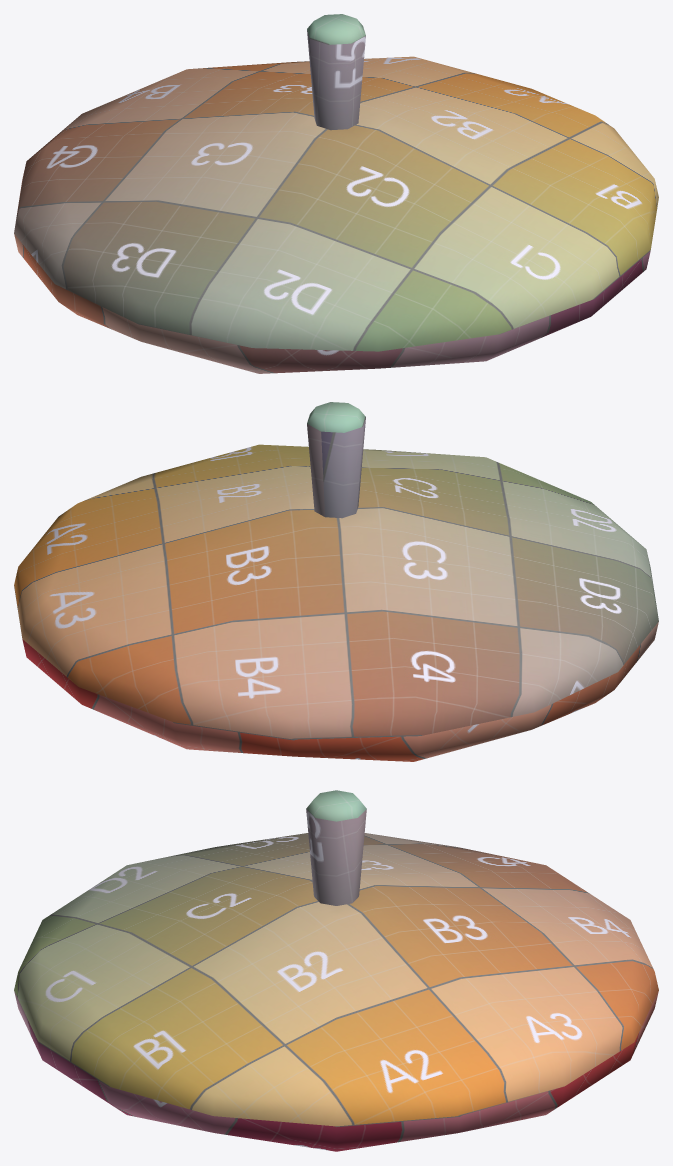
File: MediumUrnLid_SHAT.fbx
3 views of the same model, one above another, from view 1: azimuth 30°, elevation 25°; view 2: azimuth 150°, elevation 25°; view 3: azimuth 270°, elevation 25° (orthographic).
Visible parts, largest first — view 1: MediumUrnLid_SHAT.001; view 2: MediumUrnLid_SHAT.001; view 3: MediumUrnLid_SHAT.001.
Part boxes in pixels (left/top/right/bottom): MediumUrnLid_SHAT.001: left=14, top=14, right=658, bottom=373; MediumUrnLid_SHAT.001: left=14, top=402, right=658, bottom=761; MediumUrnLid_SHAT.001: left=14, top=790, right=658, bottom=1151.
Size of the model in its own units: 0.6418 by 0.3114 by 0.6418.
Materials: 1 (1 with a texture image).
